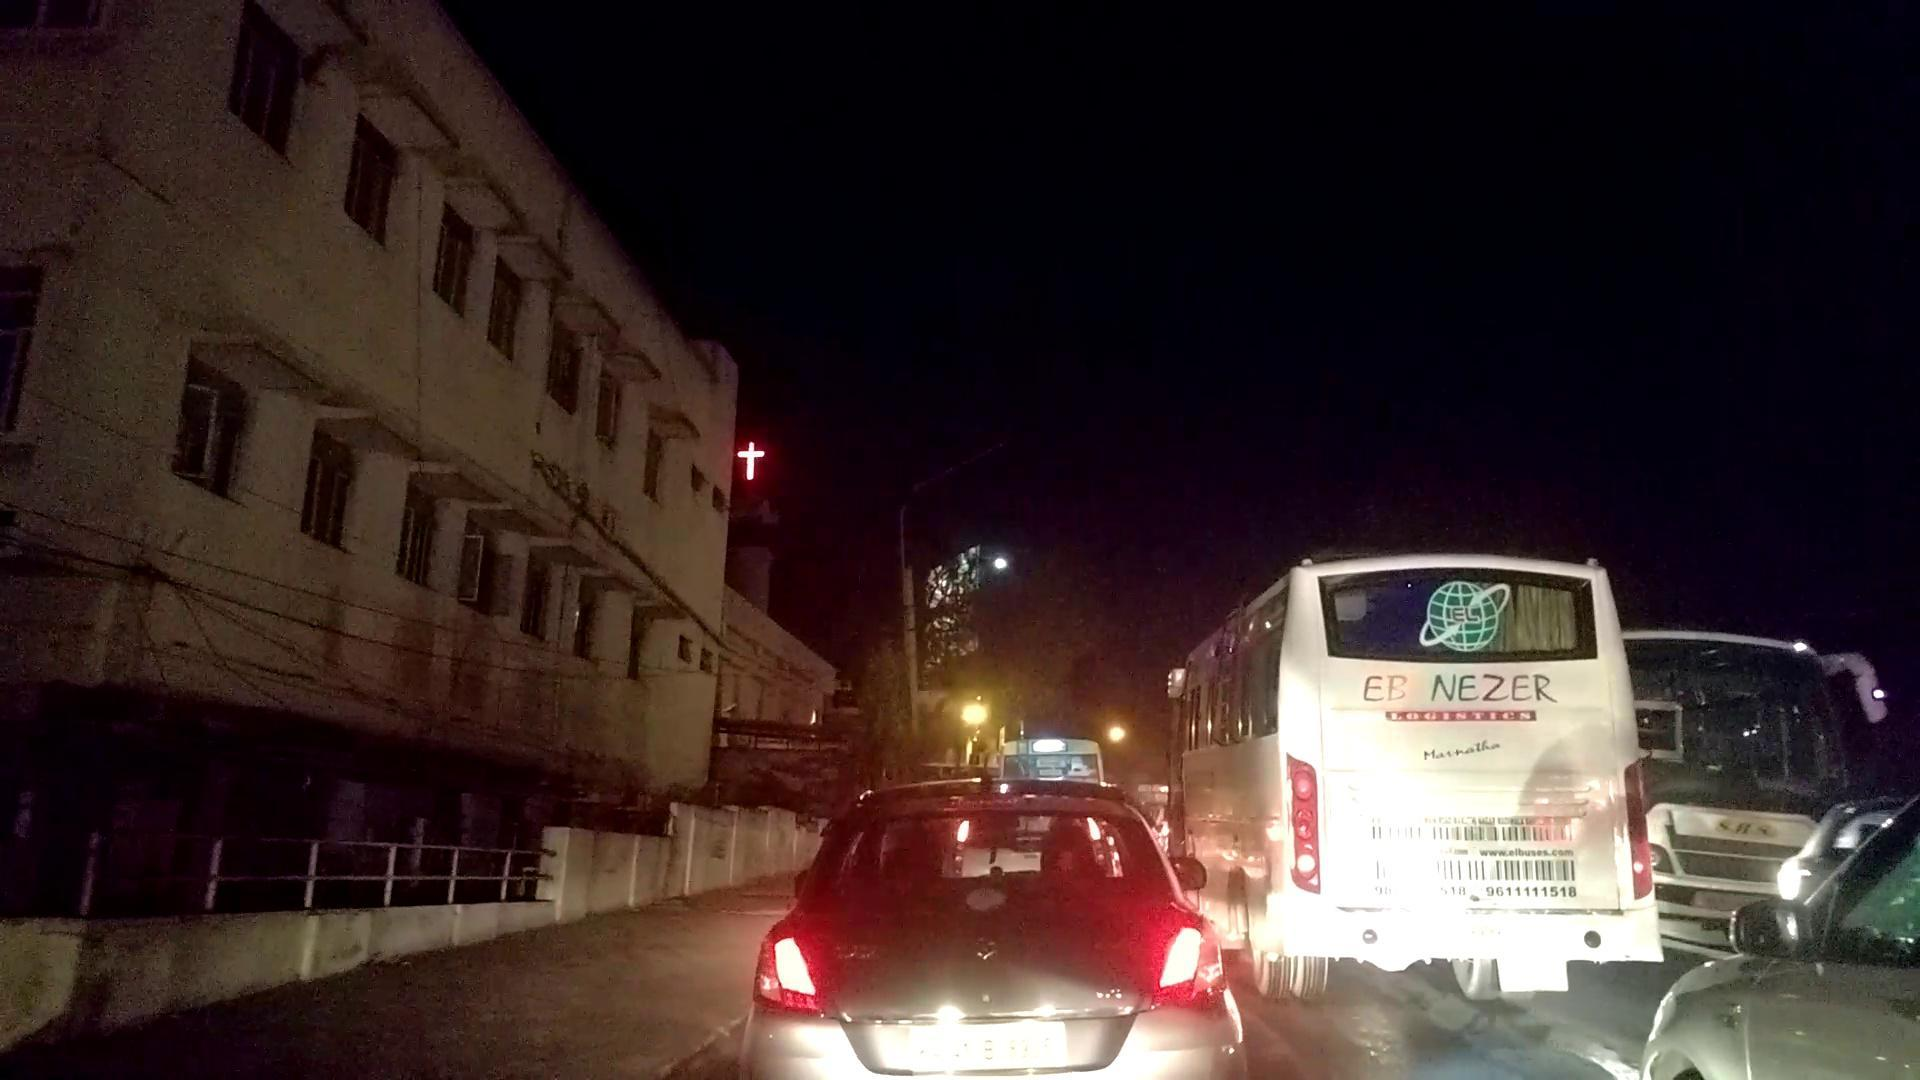on: (880, 483, 1199, 835)
